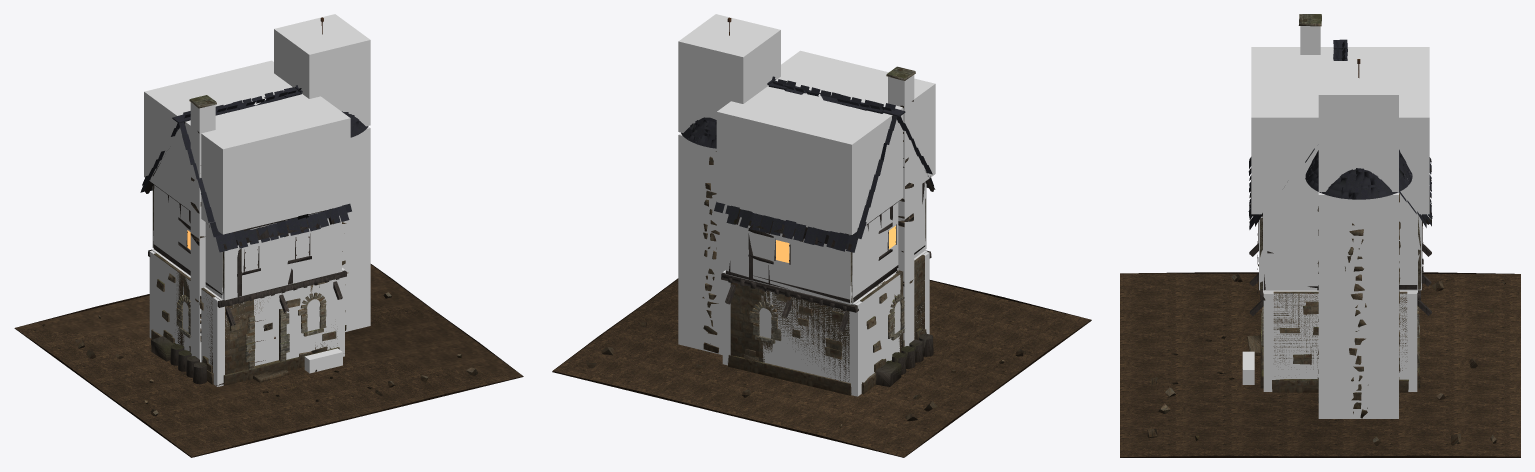
File: bld_scriptorium_quill_shared_tex.glb
3 renders of one model, left to right at view 1: azimuth 30°, elevation 25°; view 2: azimuth 150°, elevation 25°; view 3: azimuth 270°, elevation 25°, orthographic. The views are drawn at different scales.
Visible parts, largest first — view 1: ground_mud, col_roof, col_turret_cone, col_upper_S, col_turret, roof_main_shingles, lite_merge_07, col_chimney, col_wall_S_b, col_upper_W, col_wall_W, lite_merge_01 (+9 smaller); view 2: ground_mud, col_roof, col_turret, col_turret_cone, col_wall_N, col_upper_N, lite_merge_09, roof_main_shingles, col_chimney, col_upper_W, lite_merge_11, col_wall_W (+8 smaller); view 3: ground_mud, col_turret, col_roof, col_turret_cone, col_upper_E_a, lite_merge_07, col_wall_E_a, turret_cone, col_upper_E_b, lite_merge_09, col_wall_N, col_wall_S_b (+5 smaller).
Part boxes in pixels (box(x1,y1,x2,y2)): ground_mud: box(14, 264, 523, 457); col_roof: box(144, 60, 350, 234); col_turret_cone: box(274, 14, 370, 126); col_upper_S: box(223, 205, 341, 300); col_turret: box(342, 126, 370, 331); roof_main_shingles: box(140, 85, 351, 252); lite_merge_07: box(42, 282, 478, 416); col_chimney: box(190, 102, 215, 362); col_wall_S_b: box(280, 267, 344, 359); col_upper_W: box(154, 185, 222, 299); col_wall_W: box(154, 254, 212, 365); lite_merge_01: box(144, 163, 319, 384); ground_mud: box(552, 278, 1091, 457); col_roof: box(716, 50, 935, 234); col_turret: box(678, 133, 725, 354); col_turret_cone: box(678, 14, 780, 132); col_wall_N: box(722, 270, 862, 396); col_upper_N: box(725, 204, 851, 304); lite_merge_09: box(702, 151, 849, 381); roof_main_shingles: box(714, 76, 933, 252); col_chimney: box(888, 75, 914, 346); col_upper_W: box(852, 182, 925, 303); lite_merge_11: box(728, 277, 926, 395); col_wall_W: box(862, 275, 924, 382); ground_mud: box(1120, 272, 1520, 457); col_turret: box(1318, 192, 1398, 418); col_roof: box(1251, 47, 1429, 214); col_turret_cone: box(1318, 61, 1398, 191); col_upper_E_a: box(1263, 214, 1318, 290); lite_merge_07: box(1147, 273, 1505, 446); col_wall_E_a: box(1273, 293, 1318, 379); turret_cone: box(1305, 59, 1412, 199); col_upper_E_b: box(1399, 214, 1417, 290); lite_merge_09: box(1317, 193, 1400, 418); col_wall_N: box(1407, 292, 1417, 391); col_wall_S_b: box(1263, 292, 1283, 391).
Size of the model in its own units: 13 by 11.5 by 12.
Materials: 18 (13 with a texture image).
